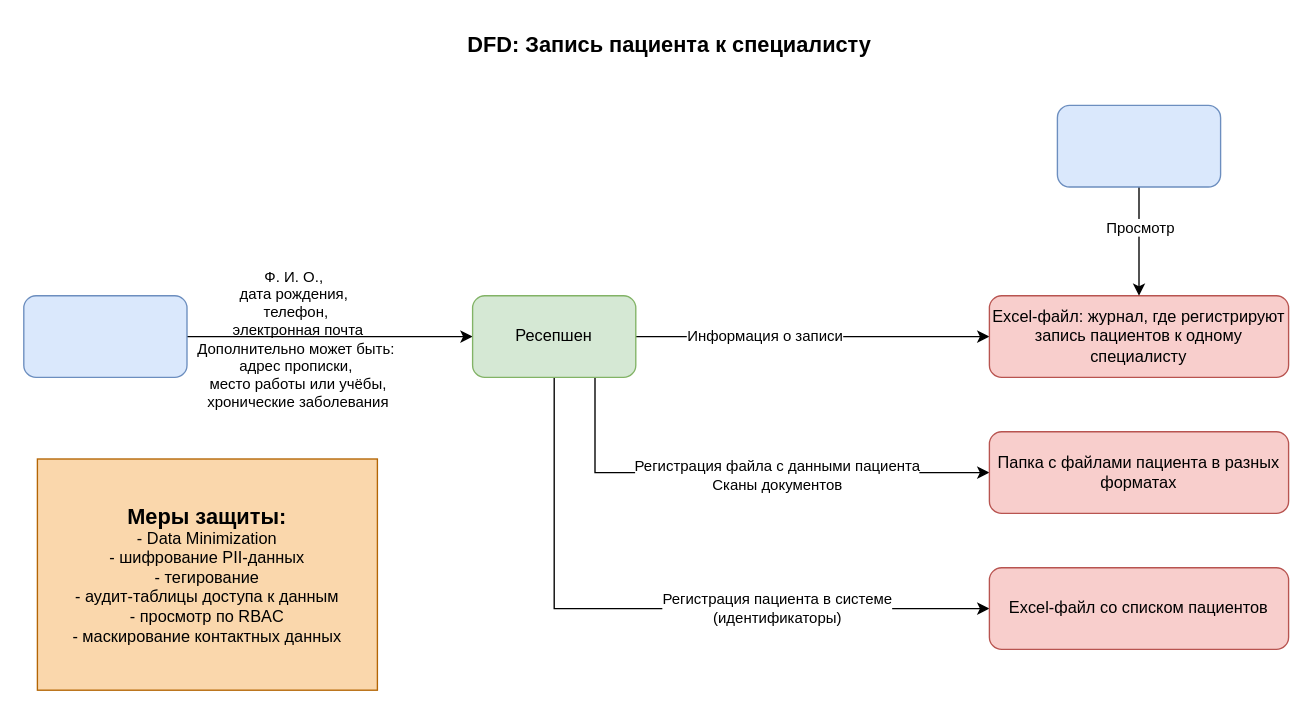
Image size: 1312x714. Some labels were removed from this diagram. Each missing label, with the centre of its shape:
Доктор: (1138,145)
Пациент: (104,335)
